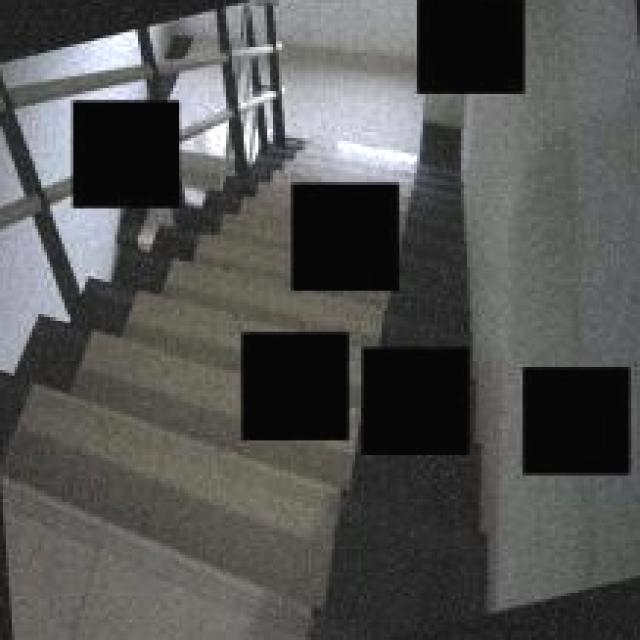downstair: (7, 341, 230, 640)
